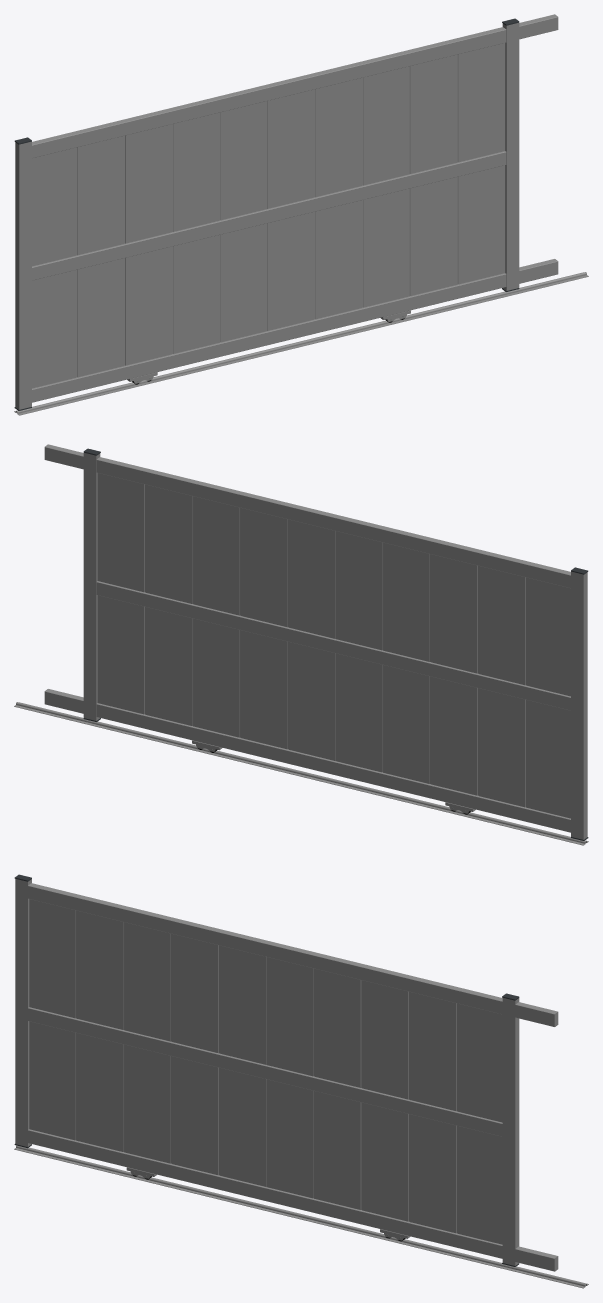
The picture shows the model from 3 angles, top to bottom: view 1: azimuth 30°, elevation 25°; view 2: azimuth 150°, elevation 25°; view 3: azimuth 330°, elevation 25°; orthographic projection.
Parts seen in each view (by area): view 1: Line150, Line153, Line023, Line151, Line154, Line024, Line025, Line152, Line026, Line022, Shape096, Shape095 (+4 smaller); view 2: Line150, Line153, Line023, Line154, Line024, Line151, Line152, Line025, Line026, Line022, Shape096, Shape095 (+4 smaller); view 3: Line150, Line153, Line024, Line025, Line152, Line022, Line023, Line151, Line026, Line154, Shape096, Shape095 (+4 smaller).
Part boxes in pixels (x1,y1,x2,y2): Line150: [267, 89, 315, 330]; Line153: [410, 54, 458, 295]; Line023: [77, 135, 124, 377]; Line151: [315, 77, 362, 319]; Line154: [458, 43, 505, 284]; Line024: [125, 124, 172, 365]; Line025: [173, 112, 220, 353]; Line152: [363, 66, 410, 307]; Line026: [220, 101, 267, 342]; Line022: [32, 147, 77, 388]; Shape096: [32, 14, 558, 158]; Shape095: [32, 259, 558, 402]; Line150: [287, 519, 335, 760]; Line153: [144, 484, 192, 725]; Line023: [478, 565, 525, 807]; Line154: [97, 473, 144, 714]; Line024: [430, 554, 477, 795]; Line151: [240, 507, 287, 749]; Line152: [192, 496, 239, 737]; Line025: [382, 542, 429, 783]; Line026: [335, 531, 382, 772]; Line022: [525, 577, 570, 818]; Shape096: [44, 444, 570, 588]; Shape095: [44, 689, 570, 832]; Line150: [266, 957, 314, 1198]; Line153: [409, 992, 457, 1233]; Line024: [124, 922, 171, 1163]; Line025: [172, 934, 219, 1175]; Line152: [362, 980, 409, 1221]; Line022: [29, 899, 76, 1140]; Line023: [76, 910, 123, 1151]; Line151: [314, 968, 361, 1209]; Line026: [219, 945, 266, 1186]; Line154: [457, 1003, 502, 1244]; Shape096: [28, 883, 558, 1026]; Shape095: [28, 1129, 558, 1271].
Bounding box in the file's own units: 3600 × 1640 × 60.02.
5 materials, 2 textured.
